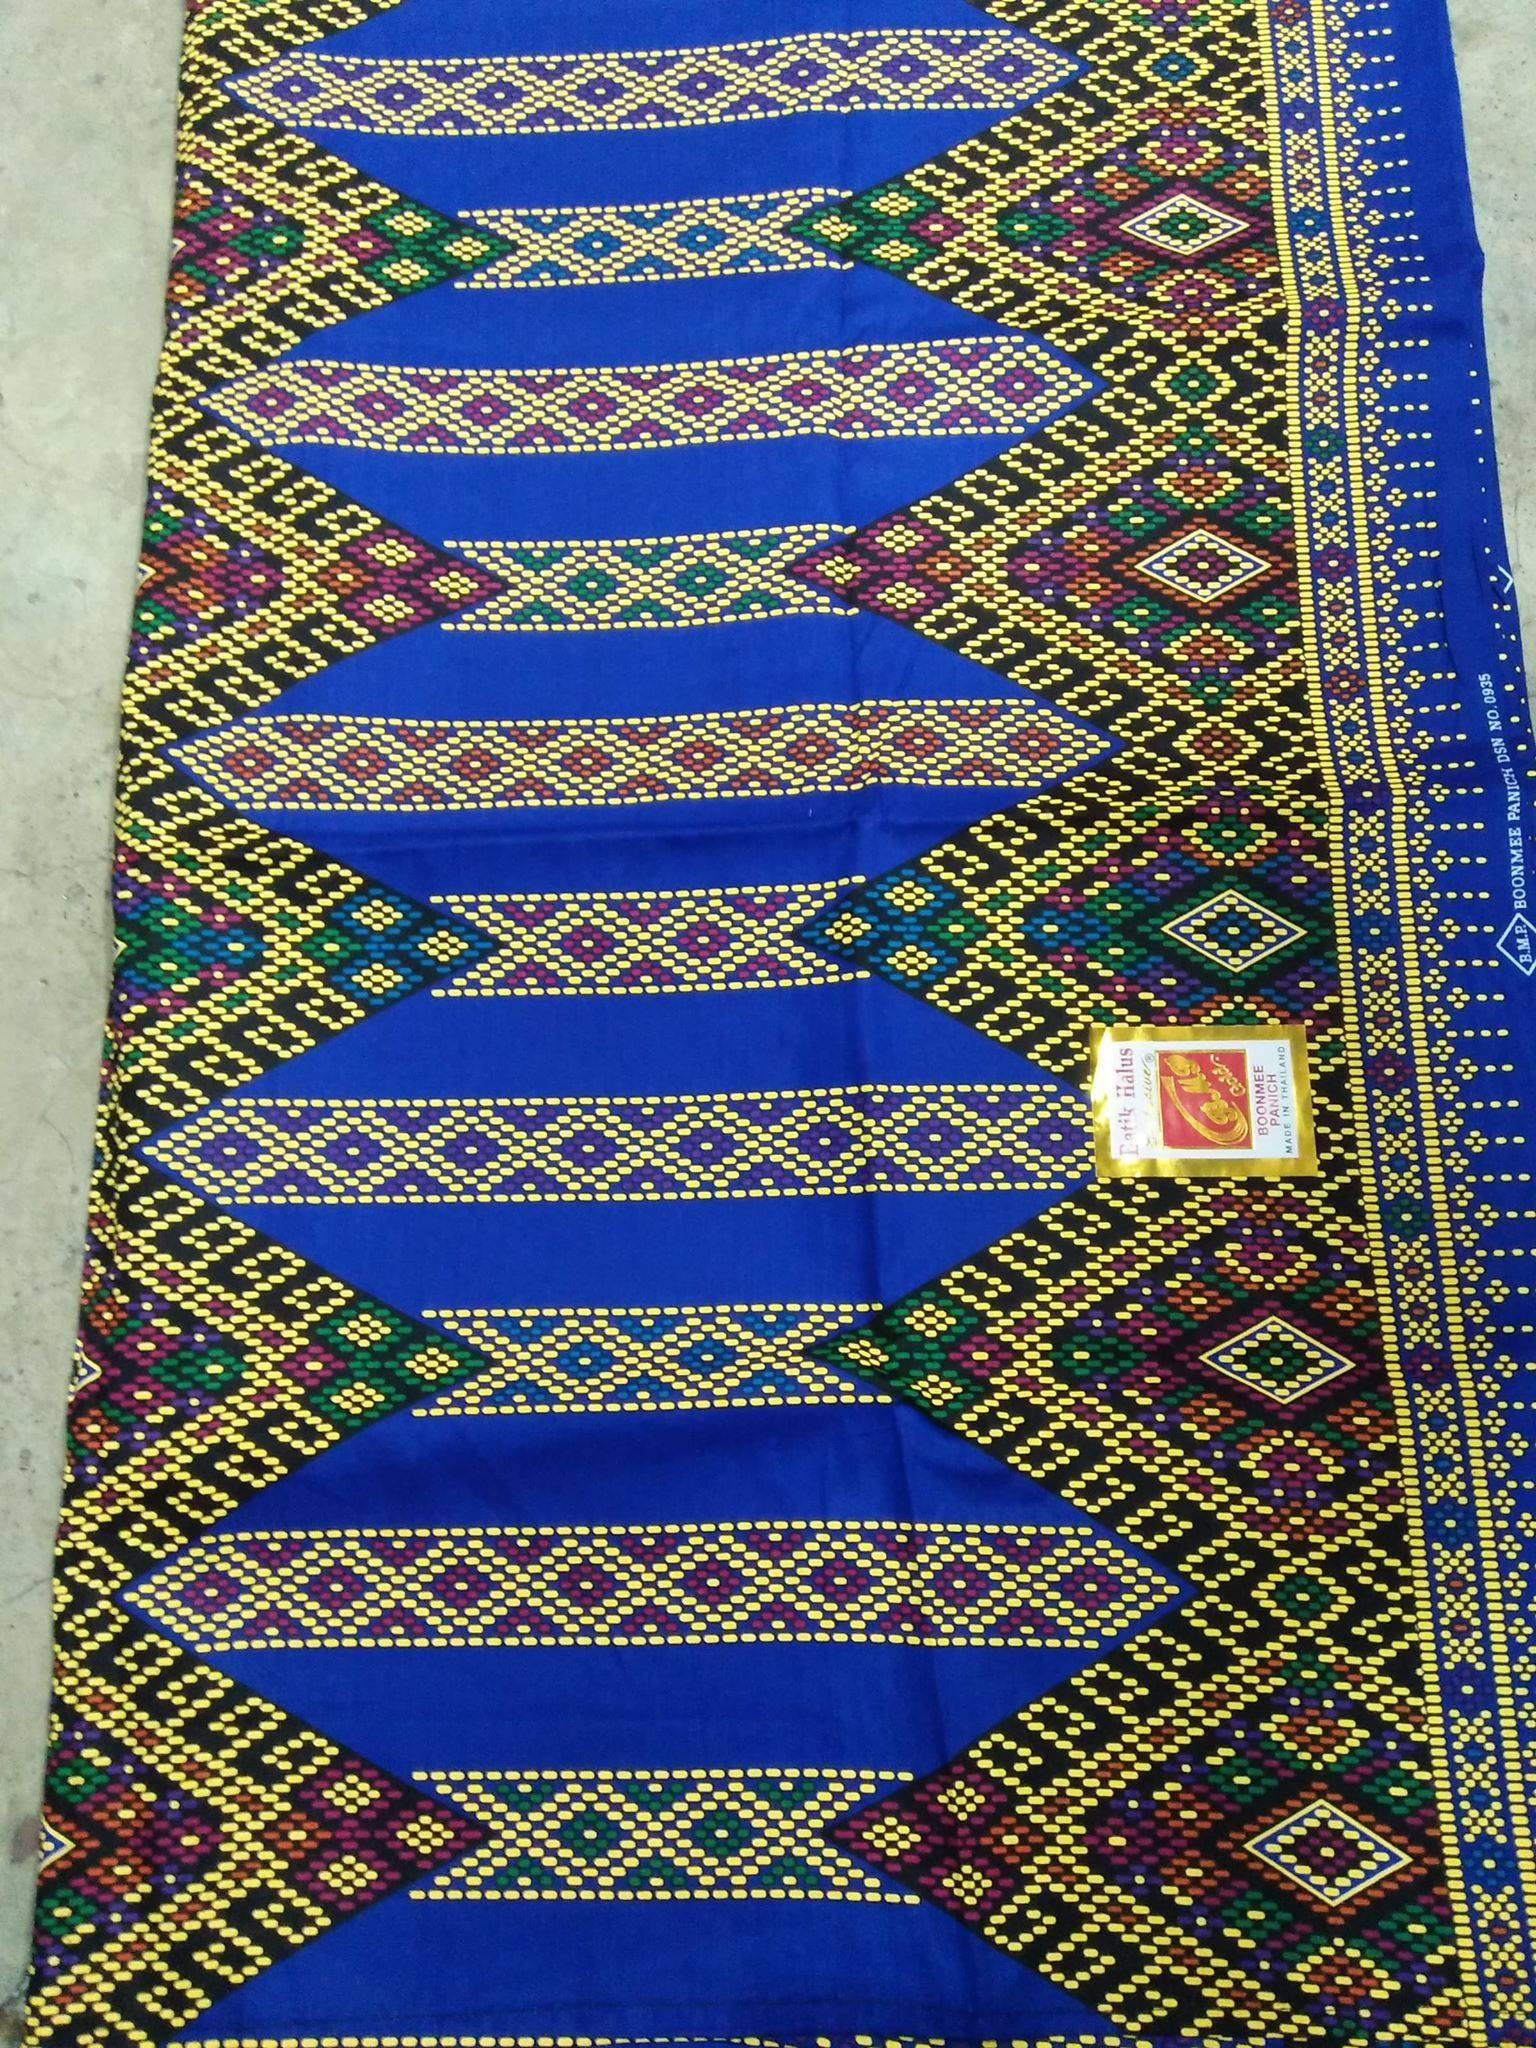malong: (30, 0, 1536, 2048)
